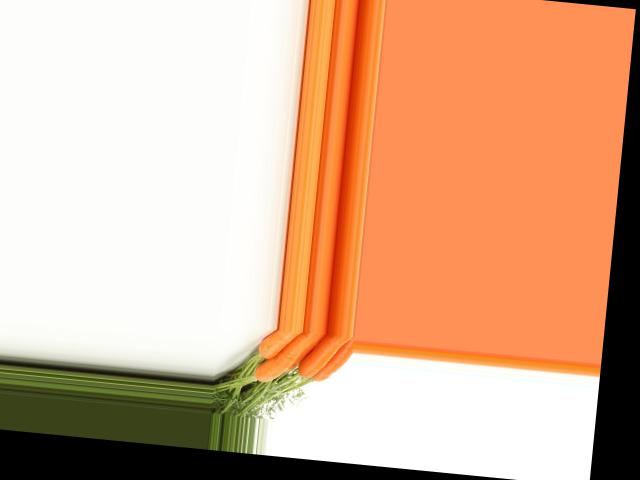carrot: (257, 327, 300, 363)
